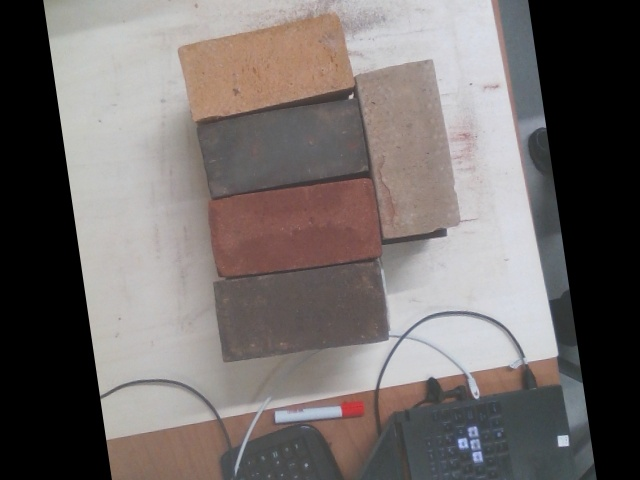brick: (177, 10, 353, 121), (357, 59, 458, 236), (213, 262, 386, 360), (210, 178, 379, 274), (196, 100, 363, 195)
